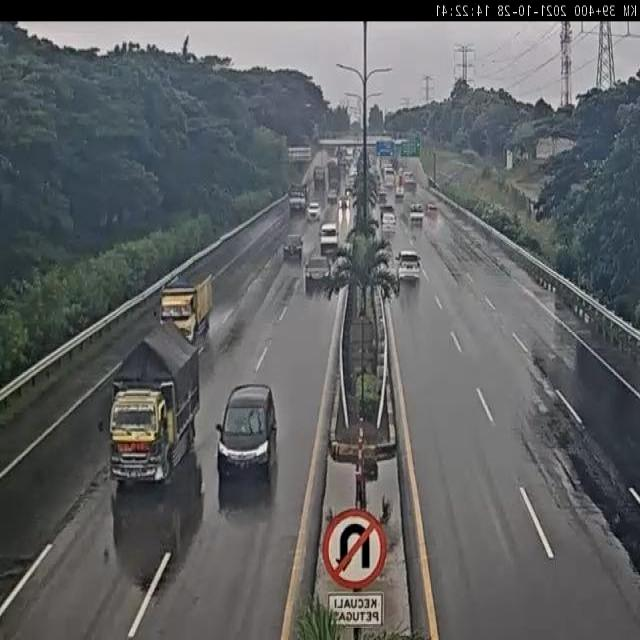Bus: (382, 166, 396, 189)
Car: (214, 383, 279, 480), (395, 249, 423, 283), (305, 255, 331, 285), (282, 233, 304, 256), (307, 202, 321, 221), (338, 196, 350, 208), (327, 189, 338, 201), (378, 191, 387, 204)
Truck: (106, 318, 199, 483), (154, 269, 215, 343), (288, 180, 308, 214), (320, 220, 339, 252), (409, 200, 424, 223), (328, 166, 342, 188), (312, 165, 324, 186)
Van: (382, 211, 395, 234)
